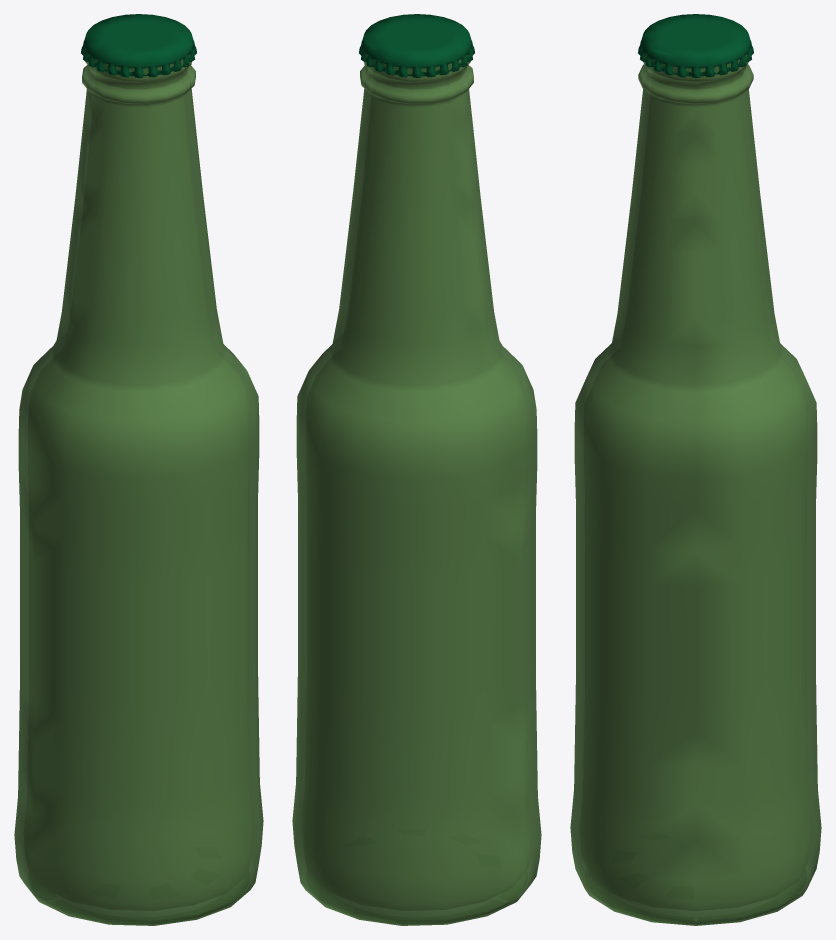
The model's file is bottle 1.fbx.
3 renders of one model, left to right at view 1: azimuth 30°, elevation 25°; view 2: azimuth 150°, elevation 25°; view 3: azimuth 270°, elevation 25°, orthographic.
Parts seen in each view (by area): view 1: bottle_outside, bottle_cap; view 2: bottle_outside, bottle_cap; view 3: bottle_outside, bottle_cap.
Part boxes in pixels (x1,y1,x2,y2): bottle_outside: (14,49,263,925); bottle_cap: (81,14,196,78); bottle_outside: (292,49,541,925); bottle_cap: (359,14,474,78); bottle_outside: (570,53,821,925); bottle_cap: (638,14,753,77).
Bounding box in the file's own units: 12.73 × 47.38 × 12.73.
